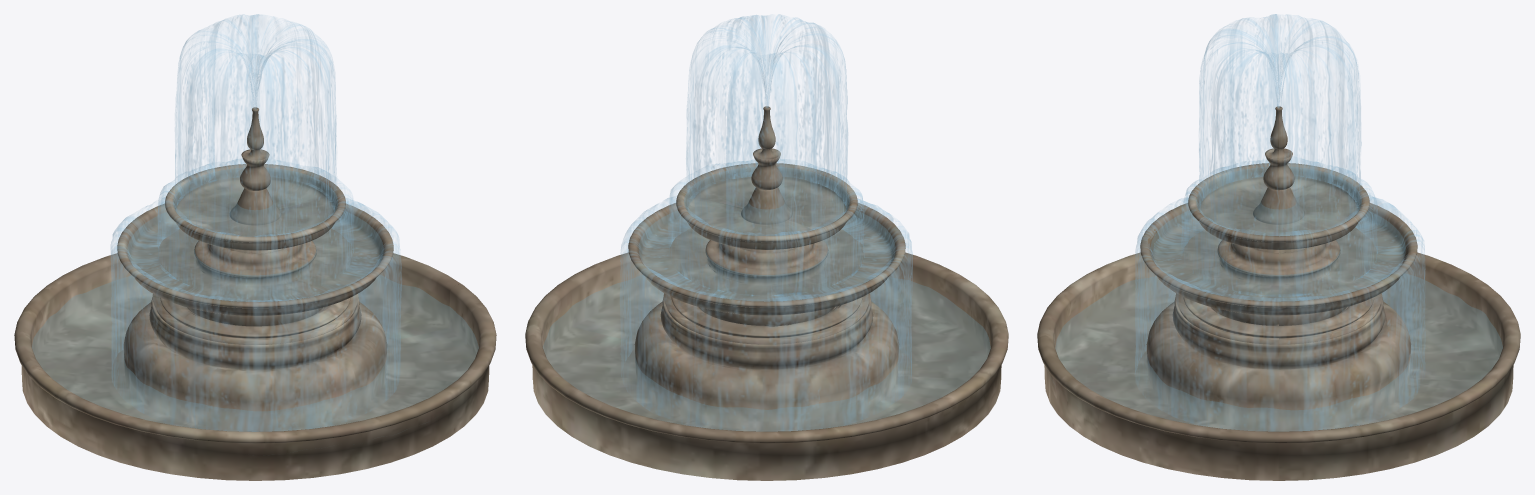
Rendered from Fountain_Capital.glb.
3 views of the same model, side by side, from view 1: azimuth 30°, elevation 25°; view 2: azimuth 150°, elevation 25°; view 3: azimuth 270°, elevation 25° (orthographic).
Visible parts, largest first — view 1: Fountain_Stone, Fountain_Water; view 2: Fountain_Stone, Fountain_Water; view 3: Fountain_Stone, Fountain_Water.
Part boxes in pixels (x1=…): Fountain_Stone: x1=14, y1=107, x2=496, y2=480; Fountain_Water: x1=32, y1=14, x2=478, y2=431; Fountain_Stone: x1=525, y1=106, x2=1008, y2=480; Fountain_Water: x1=543, y1=14, x2=990, y2=431; Fountain_Stone: x1=1037, y1=106, x2=1520, y2=480; Fountain_Water: x1=1055, y1=14, x2=1502, y2=431.
Bounding box in the file's own units: 4.6 × 3.66 × 4.6.
5 materials, 5 textured.
